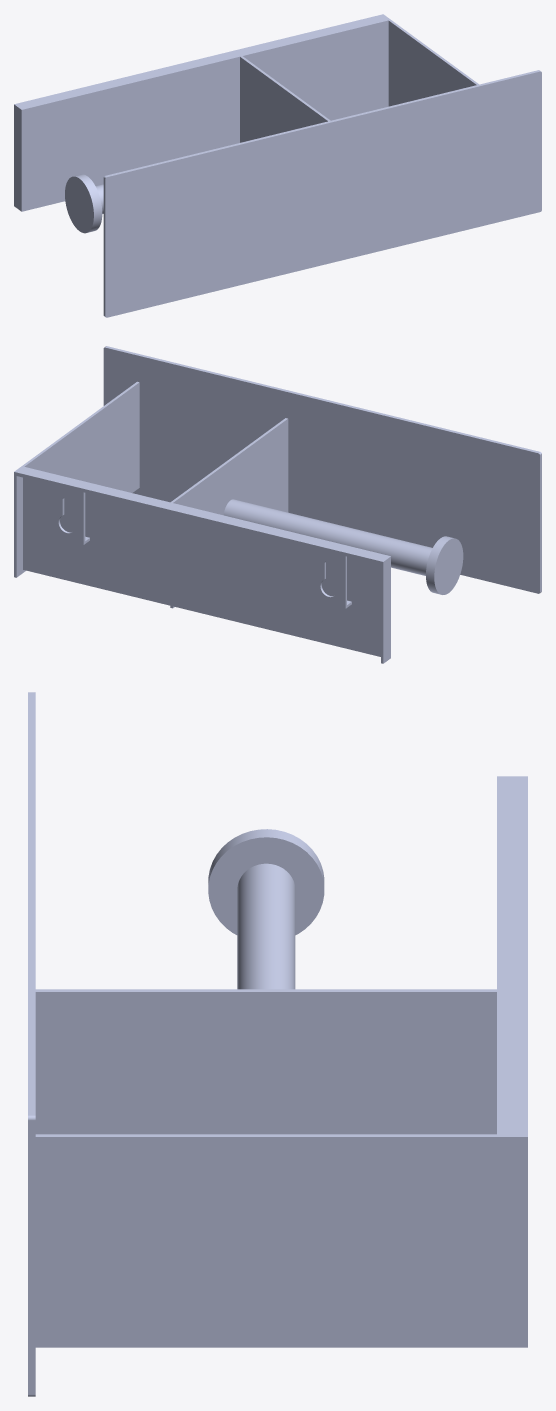
The model's file is skyline-duetto.31fd1d3fb6.glb.
3 views of the same model, one above another, from view 1: azimuth 30°, elevation 25°; view 2: azimuth 150°, elevation 25°; view 3: azimuth 270°, elevation 25° (orthographic). The views are drawn at different scales.
Visible parts, largest first — view 1: NAUO1; view 2: NAUO1; view 3: NAUO1.
Part boxes in pixels (box(x1,y1,x2,y2)): NAUO1: box(14, 14, 541, 317); NAUO1: box(14, 346, 541, 663); NAUO1: box(28, 692, 527, 1396).
Bounding box in the file's own units: 0.26 × 0.08 × 0.129.
